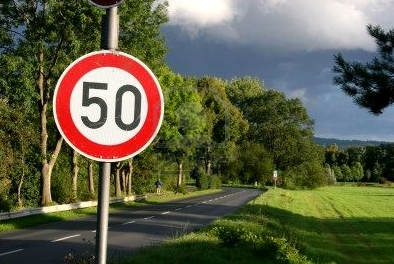Speed_limit_50km: (54, 50, 162, 158)
